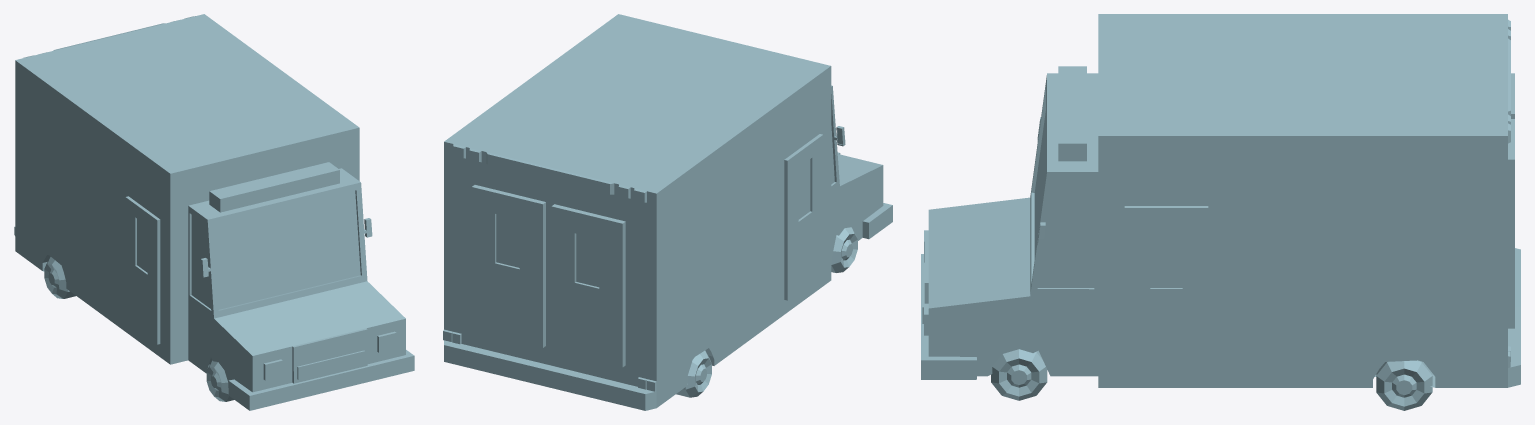
The model's file is cc0-ambulance-lod0.glb.
The picture shows the model from 3 angles, left to right: view 1: azimuth 30°, elevation 25°; view 2: azimuth 150°, elevation 25°; view 3: azimuth 270°, elevation 25°; orthographic projection. The views are drawn at different scales.
Parts seen in each view (by area): view 1: part_0; view 2: part_0; view 3: part_0.
Boxes of the visible parts, x1,y1,x2,y2 form: part_0: (14, 14, 414, 410); part_0: (443, 14, 892, 410); part_0: (921, 14, 1520, 410).
Size of the model in its own units: 2.84 by 2.91 by 5.72.
